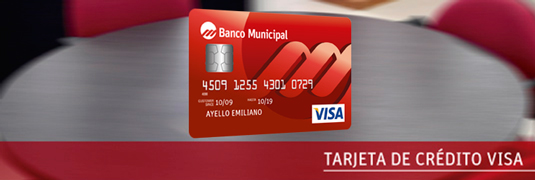tarjeta: (189, 9, 353, 139)
